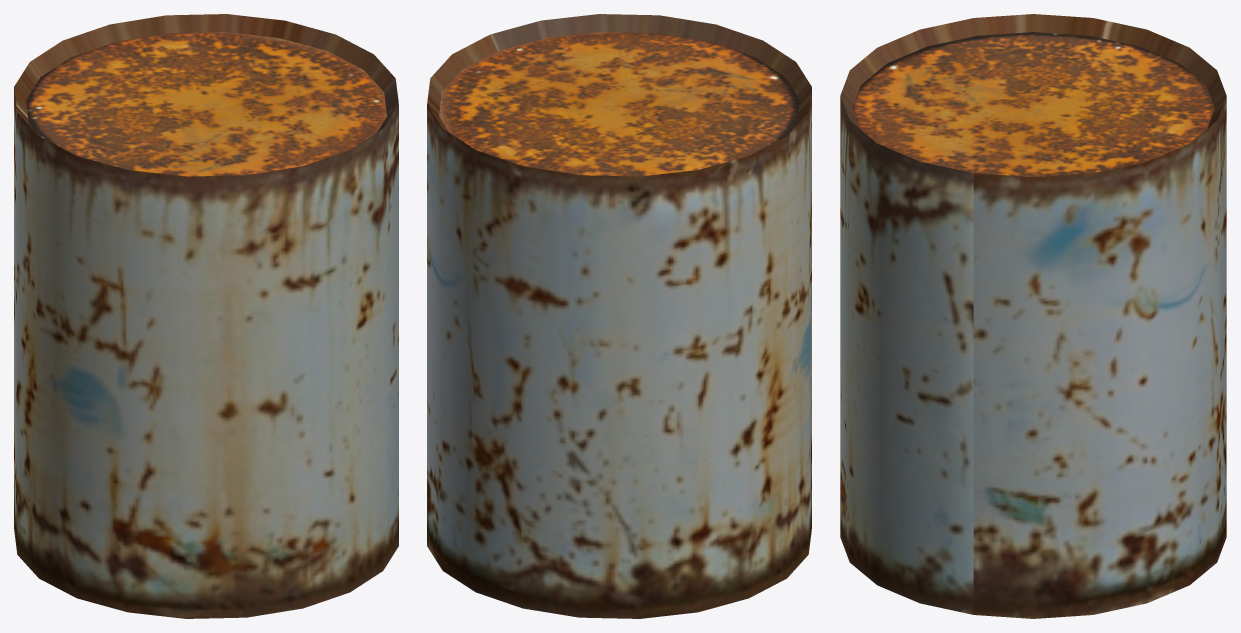
The model's file is barrel_02.fbx.
The picture shows the model from 3 angles, left to right: view 1: azimuth 30°, elevation 25°; view 2: azimuth 150°, elevation 25°; view 3: azimuth 270°, elevation 25°; orthographic projection.
Parts seen in each view (by area): view 1: barrel_02; view 2: barrel_02; view 3: barrel_02.
Part boxes in pixels (x1,y1,x2,y2): barrel_02: [14, 14, 398, 618]; barrel_02: [427, 14, 811, 618]; barrel_02: [840, 14, 1226, 618].
Bounding box in the file's own units: 0.6104 × 0.7702 × 0.6104.
